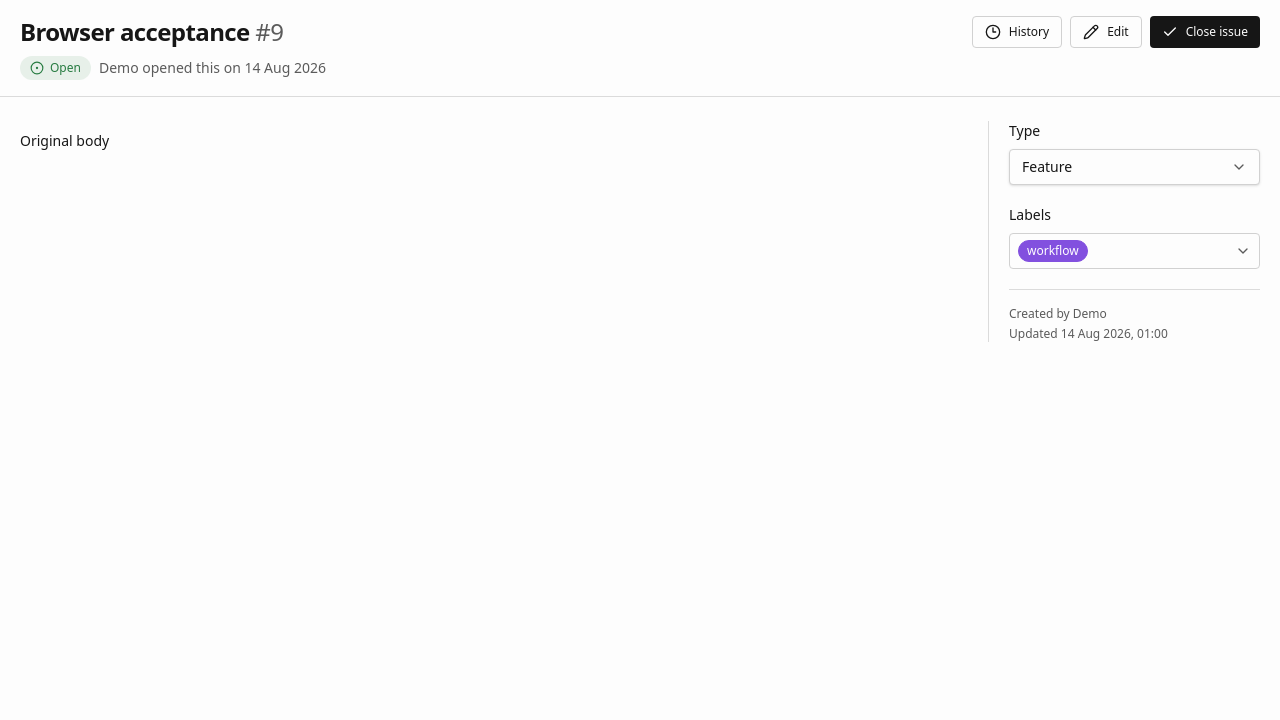
Test: issue detail editing › keeps the draft after a save conflict
Click the button "Edit". click: [1106, 32]
box: [1070,16,1142,48]
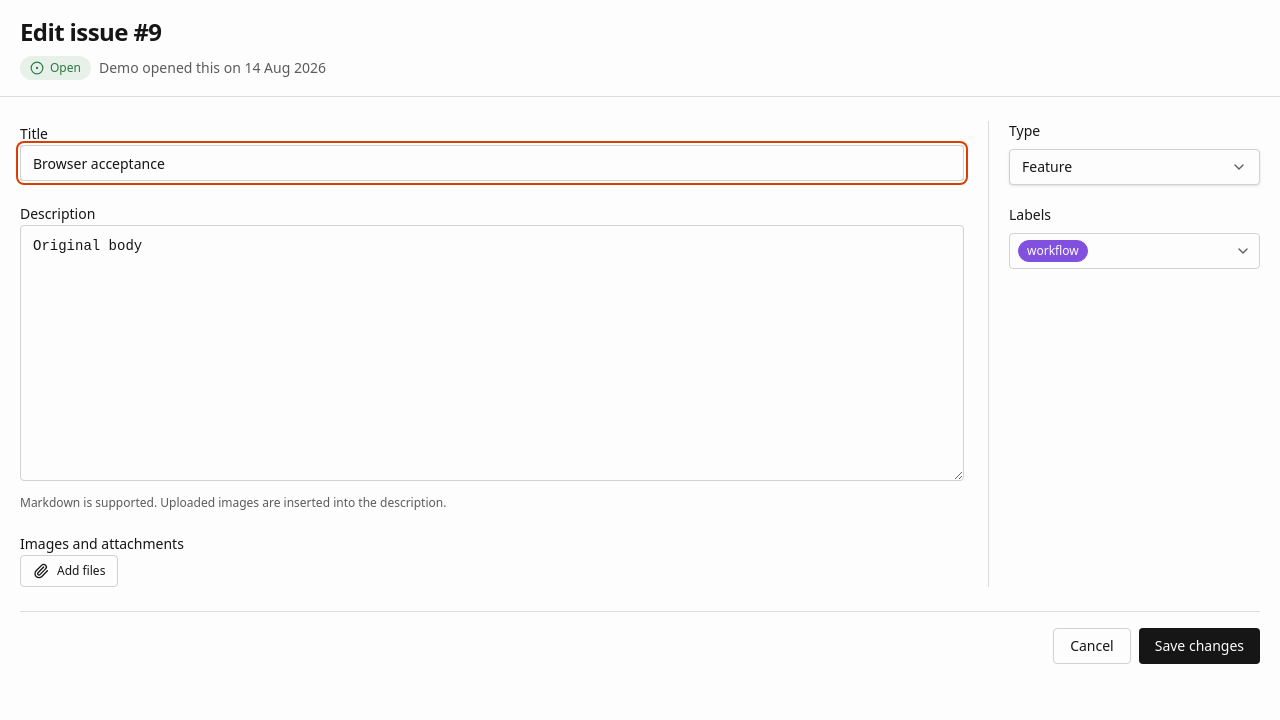
Replace the text in the field labelled "Title" with "Preserved draft". click: [492, 163]
box: [20,145,964,181]
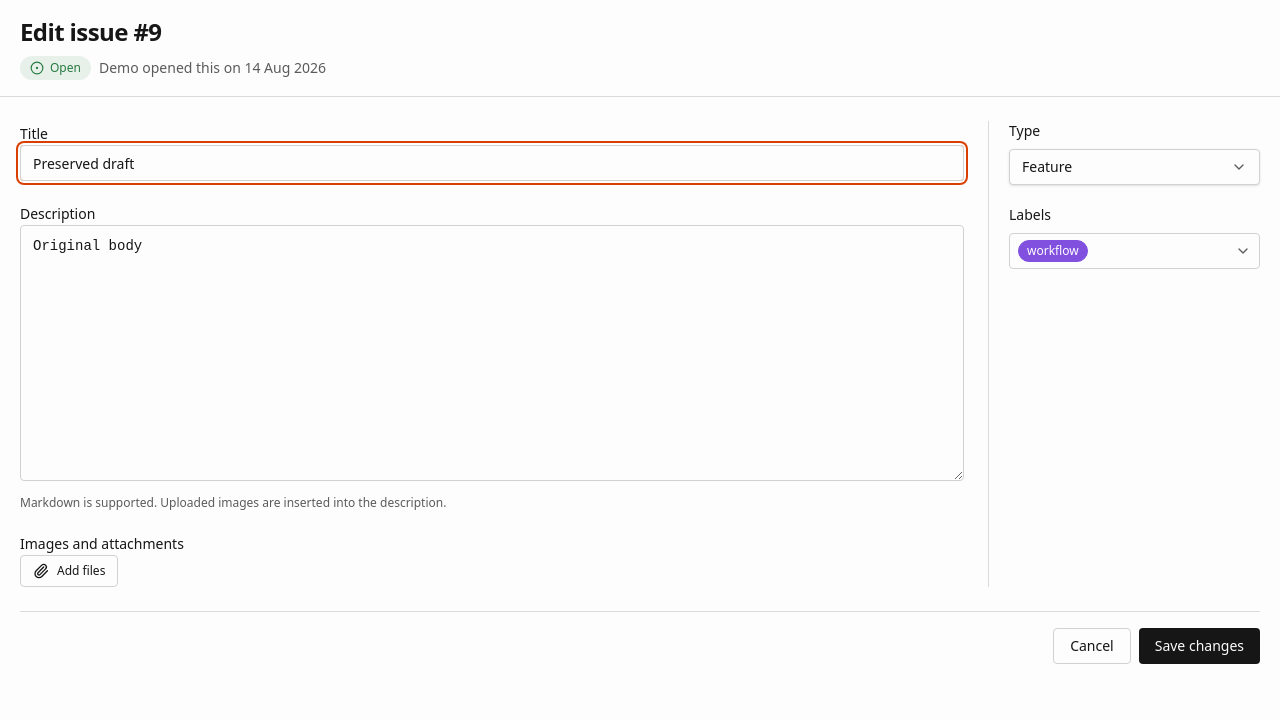
Click the button "Save changes". click: [1199, 646]
box: [1139,628,1260,664]
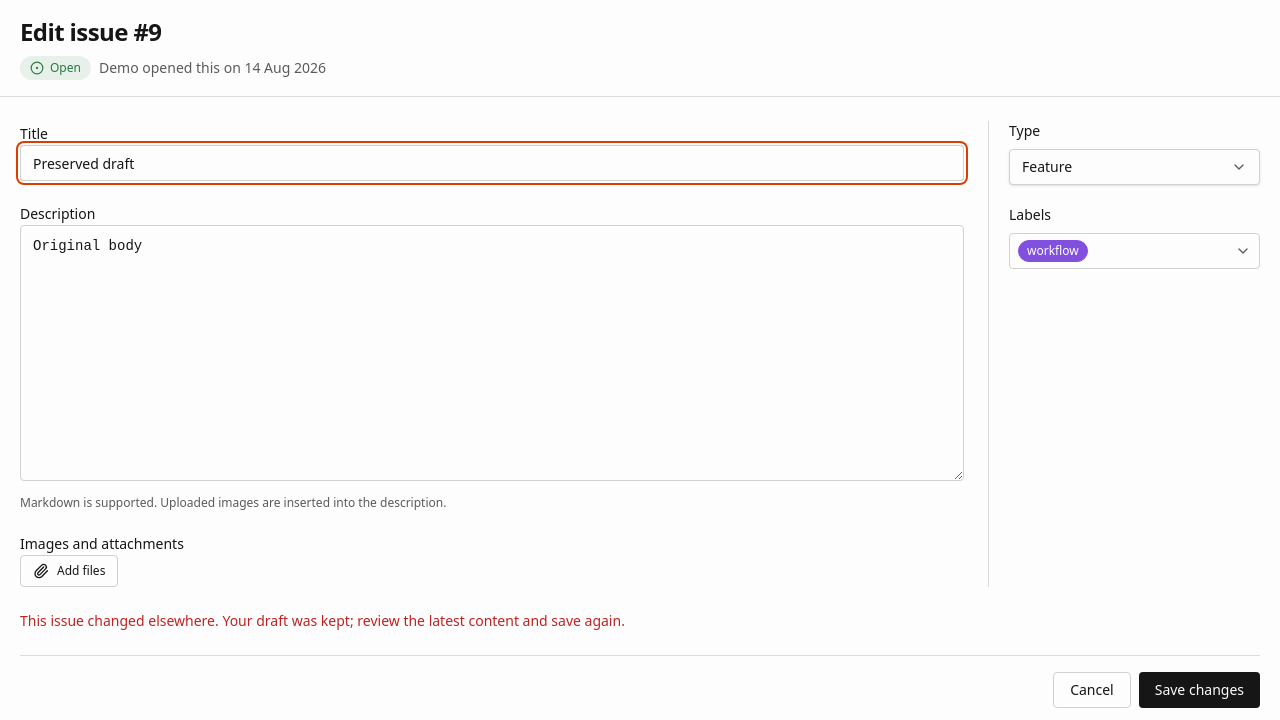
Expected: the message shows "Your draft was kept", [20,611,625,630]
